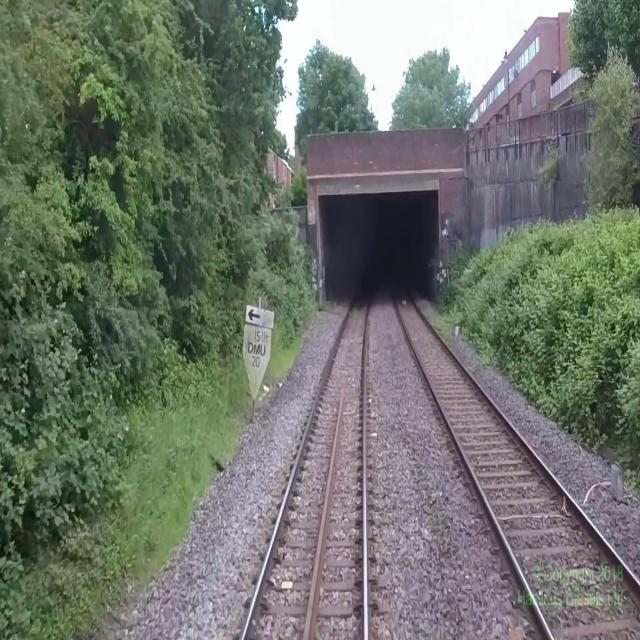rail-track: (394, 286, 640, 639), (244, 286, 372, 639)
